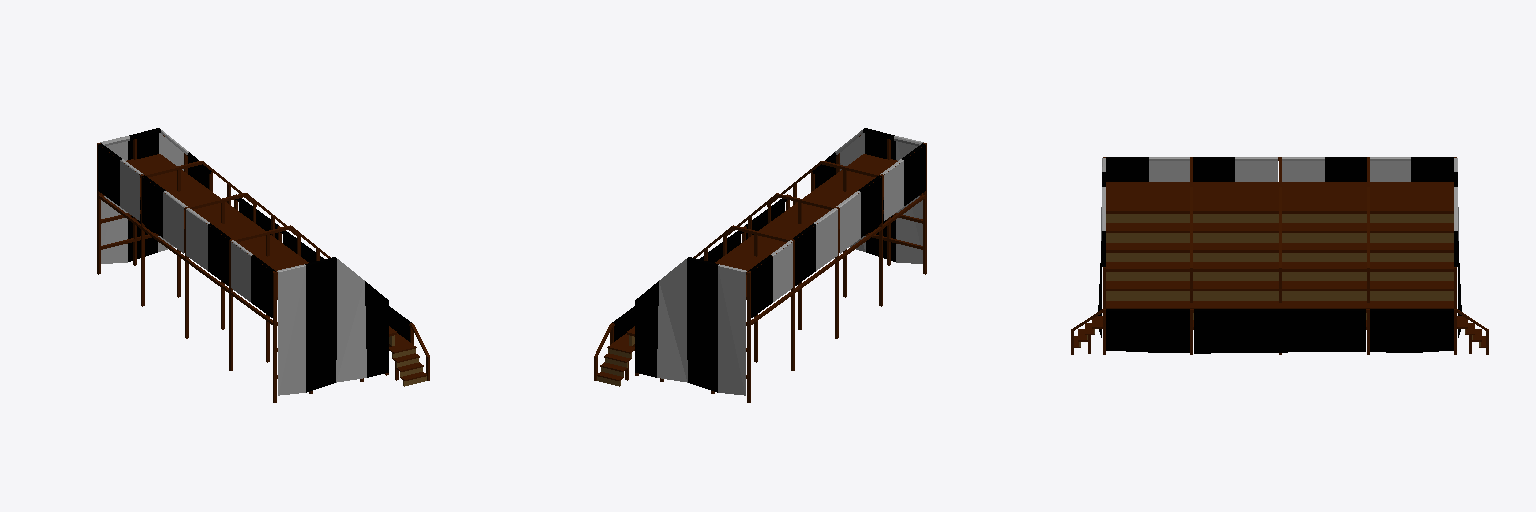
File: Platform_black_white.obj
3 renders of one model, left to right at view 1: azimuth 30°, elevation 25°; view 2: azimuth 150°, elevation 25°; view 3: azimuth 270°, elevation 25°, orthographic.
Parts seen in each view (by area): view 1: Platform_01; view 2: Platform_01; view 3: Platform_01.
Boxes of the visible parts, <box> form: Platform_01: <box>97,128,429,402</box>; Platform_01: <box>594,128,926,402</box>; Platform_01: <box>1071,157,1488,354</box>.
Size of the model in its own units: 5.63 by 4.96 by 14.4.